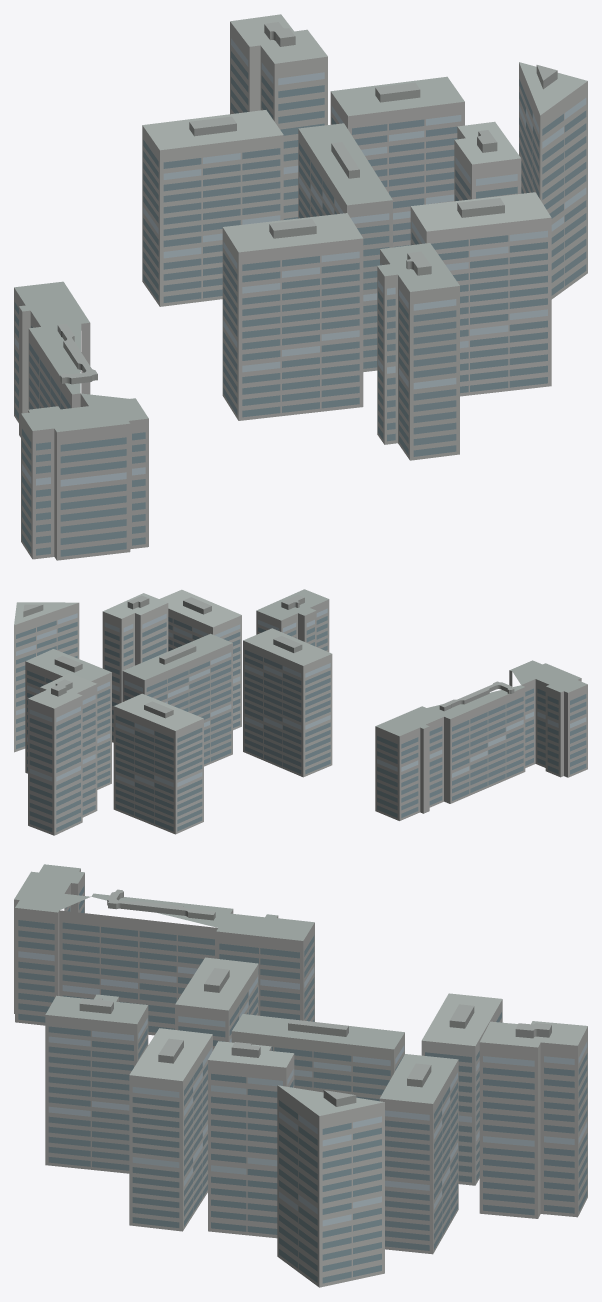
Rendered from apt-a13009202.glb.
3 renders of one model, top to bottom at view 1: azimuth 30°, elevation 25°; view 2: azimuth 150°, elevation 25°; view 3: azimuth 270°, elevation 25°, orthographic. The views are drawn at different scales.
Visible parts, largest first — view 1: apt-a13009202; view 2: apt-a13009202; view 3: apt-a13009202.
Part boxes in pixels (<box>): apt-a13009202: <box>14,14,587,560</box>; apt-a13009202: <box>14,589,587,835</box>; apt-a13009202: <box>14,864,587,1287</box>.
Bounding box in the file's own units: 177 × 47.81 × 139.
